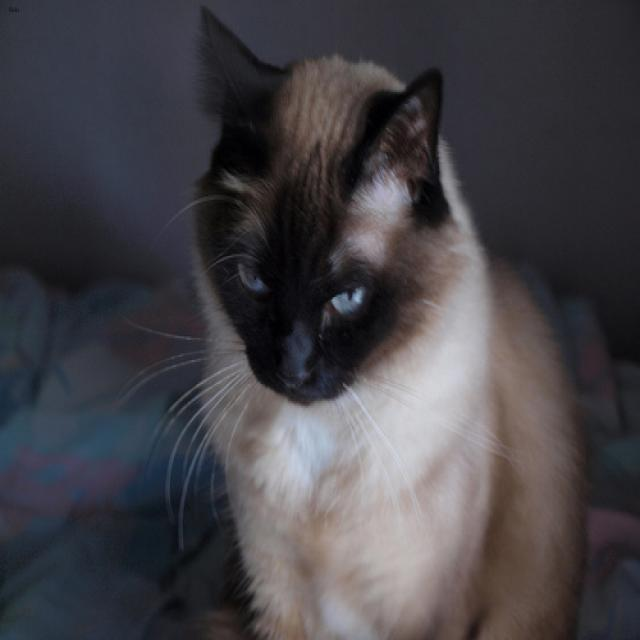Siamese: (188, 5, 455, 412)
